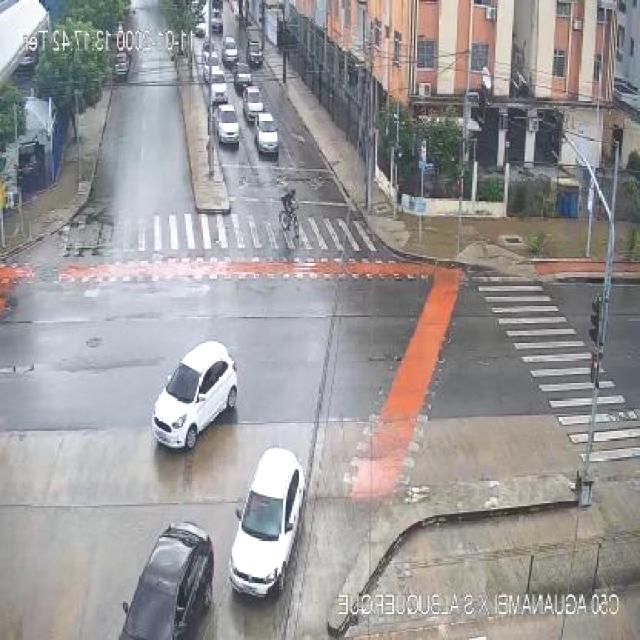Car: (228, 445, 308, 603), (117, 522, 221, 640), (150, 340, 240, 457), (213, 104, 241, 146), (256, 112, 282, 155), (207, 70, 228, 112), (242, 86, 266, 120), (244, 37, 262, 70), (233, 62, 253, 91), (222, 36, 238, 64), (202, 50, 218, 78), (212, 10, 226, 35)
Cycle: (280, 189, 302, 232)
